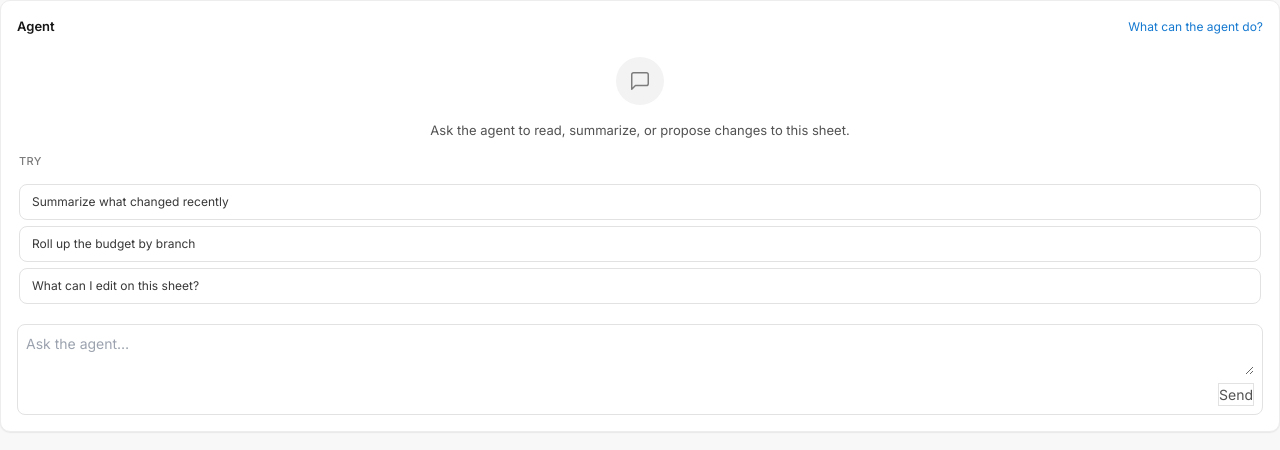
it: AgentSidebar (thin shell) › renders streamed Re-Act frames in arrival order (WEB_UI-064)
Type "go" into the text box with test id "agent-input" at (640, 354), box [26,333,1254,375]
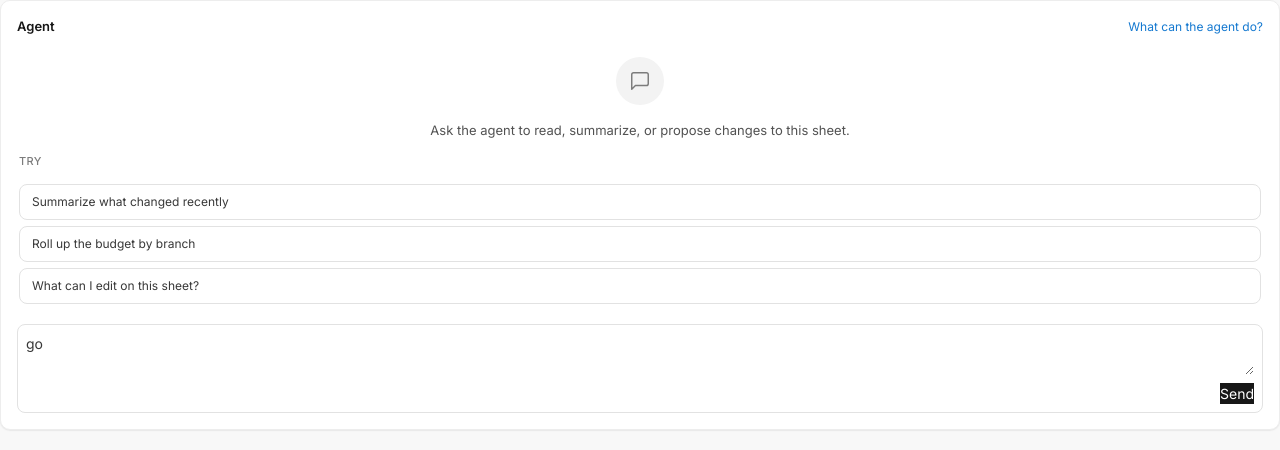
Click the button with test id "agent-send" at (1237, 393), box [1220,383,1254,404]
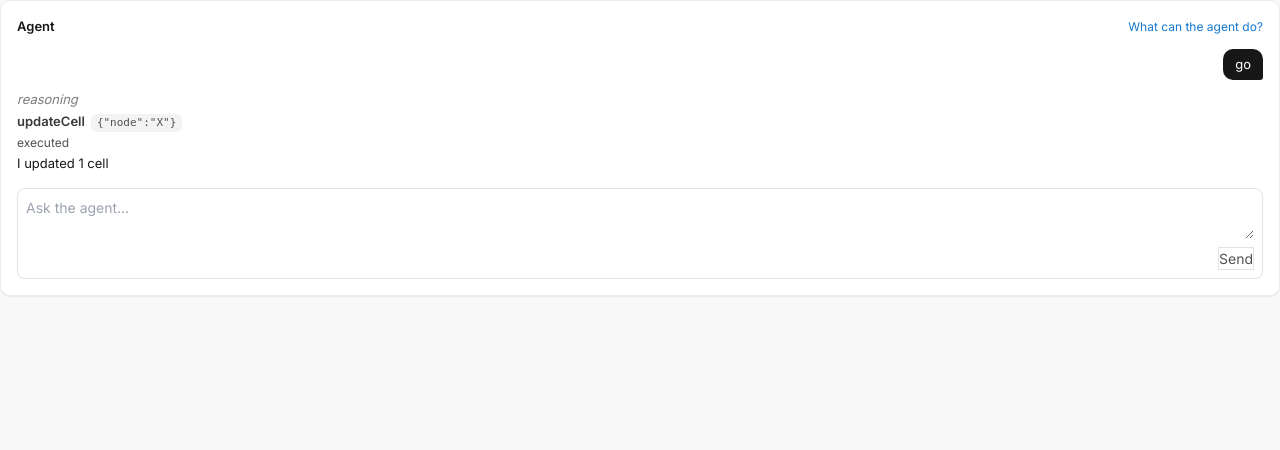
Expected: the text "reasoning" is shown, [17,91,78,107]
Expected: the text with test id "frame-action-tool" reads "updateCell", [17,112,85,128]
Expected: the text with test id "frame-final" reads "I updated 1 cell", [17,155,109,171]
